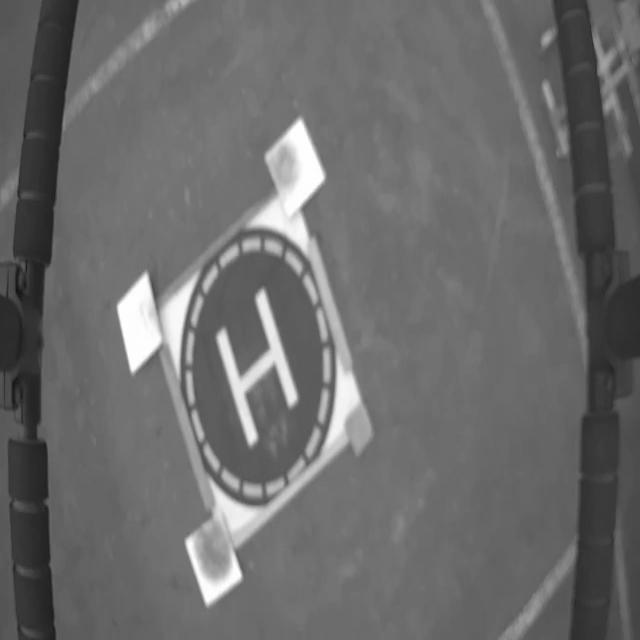Helipad: (216, 284, 301, 449)
